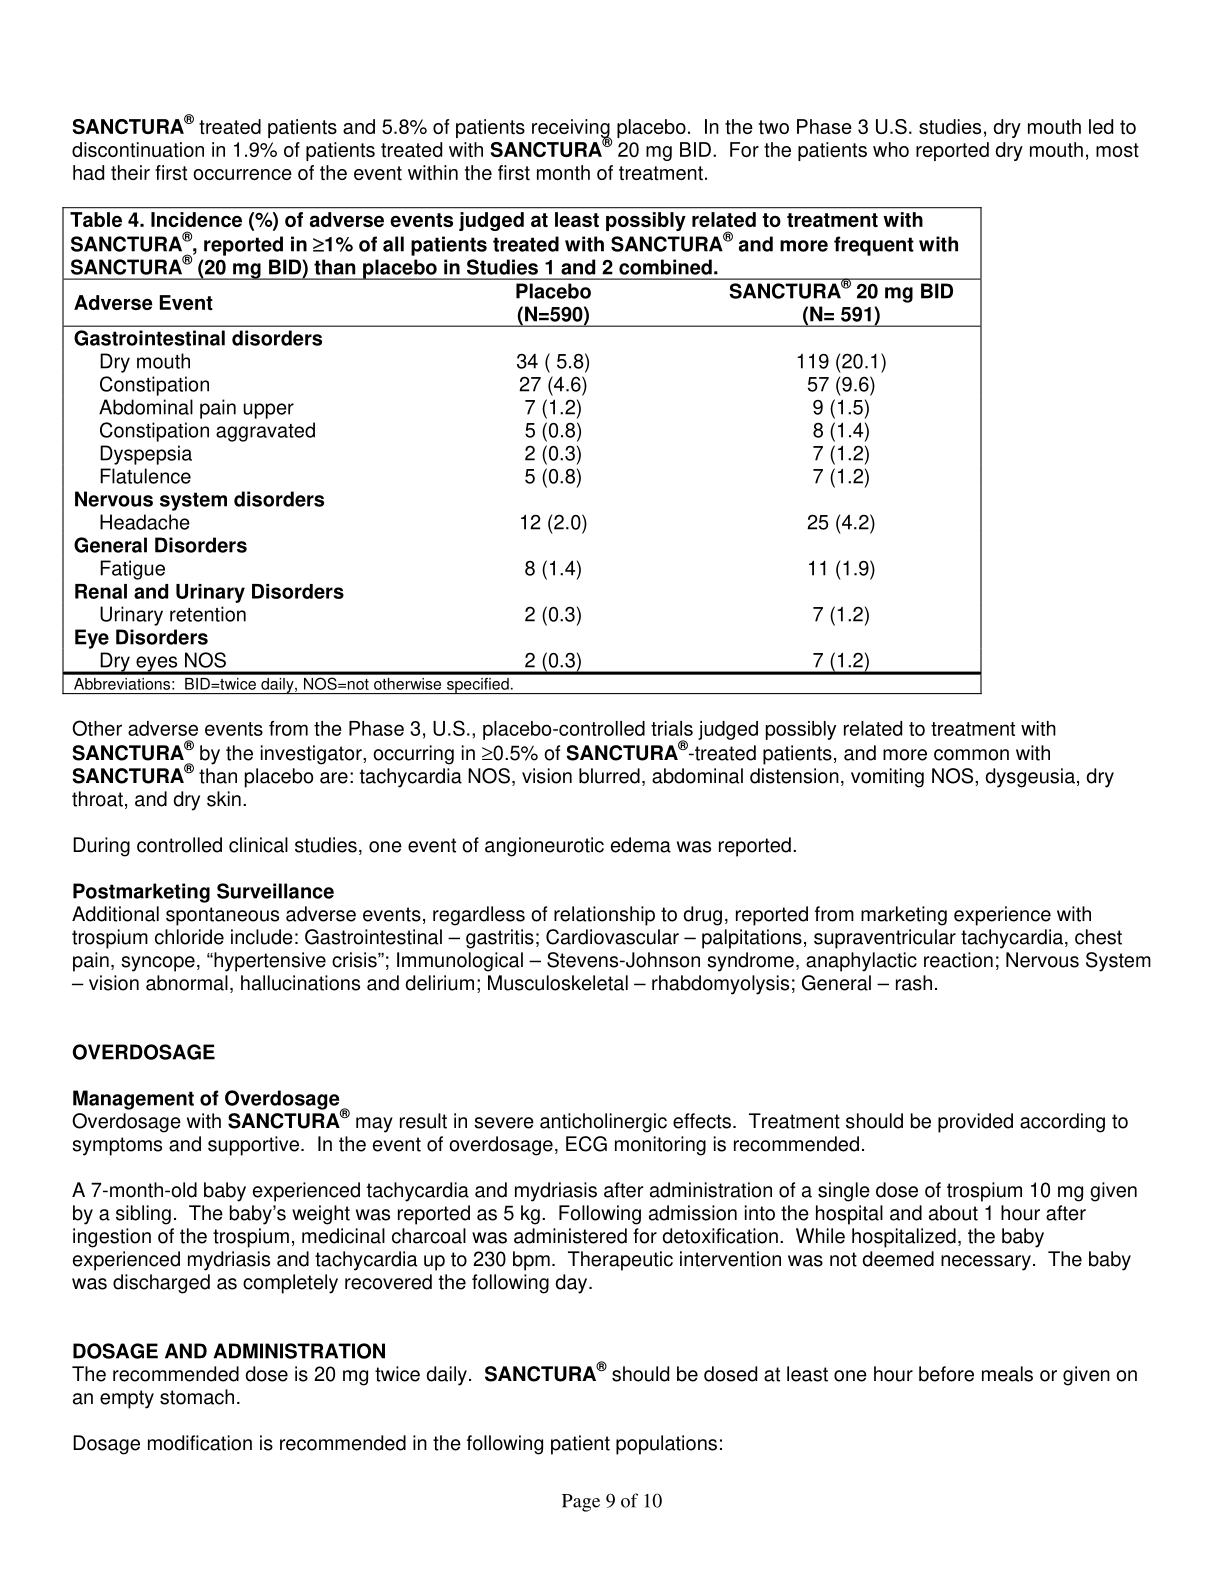partial_lined_merged_cells: (62, 204, 984, 698)
